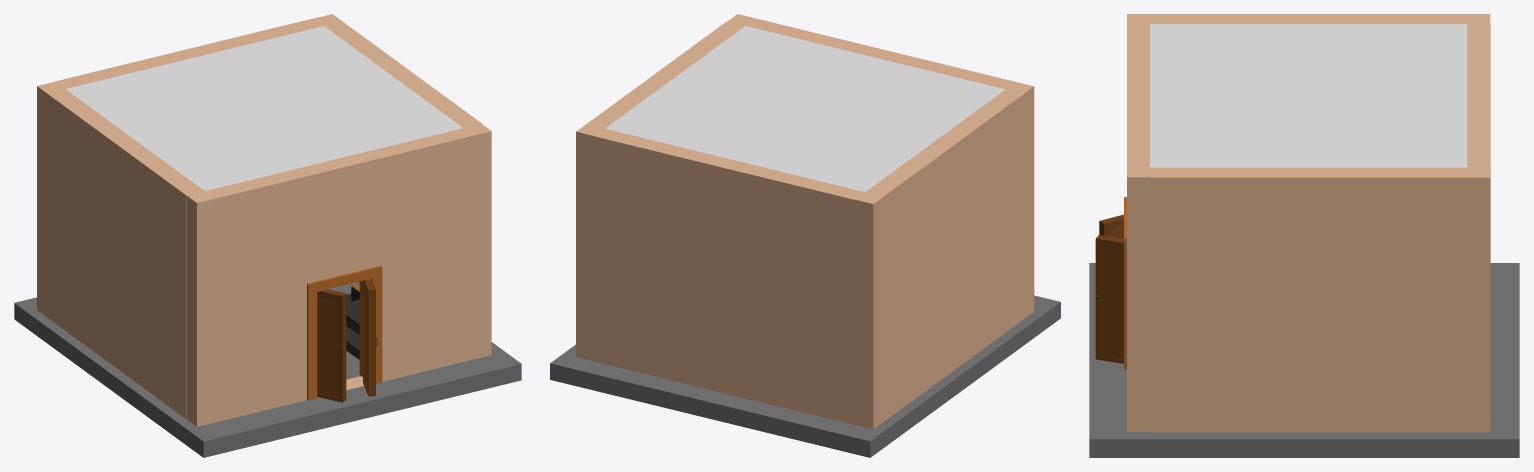
The model's file is room-studio.glb.
3 renders of one model, left to right at view 1: azimuth 30°, elevation 25°; view 2: azimuth 150°, elevation 25°; view 3: azimuth 270°, elevation 25°, orthographic. The views are drawn at different scales.
Visible parts, largest first — view 1: Cube.017, Cube.016, Cube.008, Cube.007, Cube.019, Cube.018, Cube.023, Cube.009, Cube.020; view 2: Cube.009, Cube.016, Cube.008, Cube.007, Cube.023, Cube.017; view 3: Cube.023, Cube.008, Cube.007, Cube.017, Cube.009, Cube.020, Cube.016, Cube.018, Cube.019.
Boxes of the visible parts, x1=… form: Cube.017: x1=186, y1=123, x2=491, y2=426; Cube.016: x1=37, y1=81, x2=203, y2=419; Cube.008: x1=66, y1=26, x2=462, y2=190; Cube.007: x1=14, y1=281, x2=521, y2=457; Cube.019: x1=317, y1=289, x2=346, y2=402; Cube.018: x1=307, y1=265, x2=382, y2=400; Cube.023: x1=314, y1=14, x2=481, y2=127; Cube.009: x1=55, y1=18, x2=323, y2=88; Cube.020: x1=363, y1=278, x2=375, y2=396; Cube.009: x1=594, y1=129, x2=864, y2=424; Cube.016: x1=855, y1=89, x2=1023, y2=429; Cube.008: x1=605, y1=26, x2=1005, y2=191; Cube.007: x1=550, y1=295, x2=1060, y2=457; Cube.023: x1=576, y1=21, x2=744, y2=361; Cube.017: x1=727, y1=14, x2=1034, y2=318; Cube.023: x1=1150, y1=167, x2=1490, y2=432; Cube.008: x1=1150, y1=24, x2=1467, y2=167; Cube.007: x1=1089, y1=263, x2=1519, y2=457; Cube.017: x1=1127, y1=14, x2=1150, y2=431; Cube.009: x1=1467, y1=24, x2=1490, y2=421; Cube.020: x1=1095, y1=235, x2=1123, y2=363; Cube.016: x1=1150, y1=14, x2=1490, y2=23; Cube.018: x1=1124, y1=197, x2=1126, y2=369; Cube.019: x1=1099, y1=214, x2=1123, y2=238.
Bounding box in the file's own units: 386 × 279 × 398.
